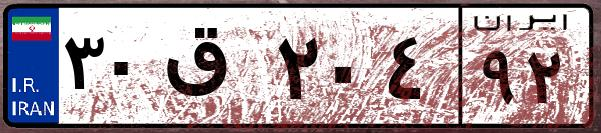0: (330, 28, 385, 110), (110, 28, 158, 98)
2: (270, 28, 330, 110), (525, 38, 570, 115)
3: (57, 26, 110, 100)
4: (385, 28, 445, 110)
9: (475, 38, 525, 113)
ق: (158, 20, 270, 120)
